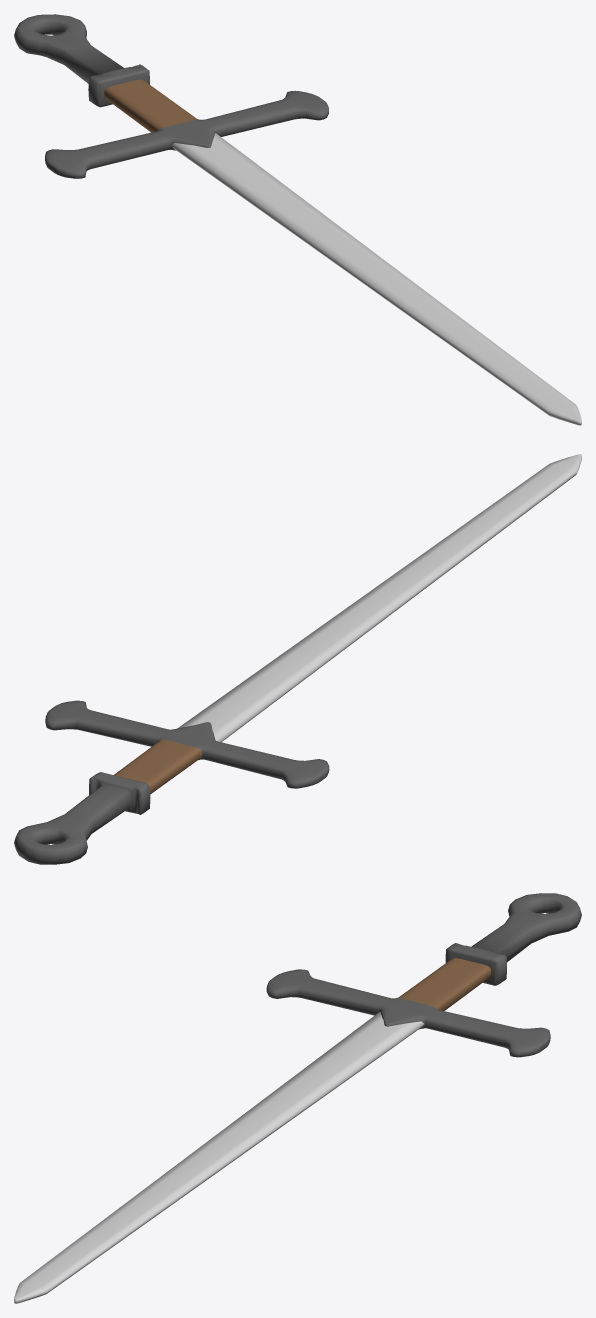
The model's file is Sword_00.fbx.
The picture shows the model from 3 angles, top to bottom: view 1: azimuth 30°, elevation 25°; view 2: azimuth 150°, elevation 25°; view 3: azimuth 330°, elevation 25°; orthographic projection.
Parts seen in each view (by area): view 1: Sword_00; view 2: Sword_00; view 3: Sword_00.
Boxes of the visible parts, x1=… form: Sword_00: x1=14, y1=14, x2=581, y2=425; Sword_00: x1=14, y1=454, x2=581, y2=864; Sword_00: x1=14, y1=893, x2=581, y2=1303.
Bounding box in the file's own units: 31.63 × 2.96 × 111.
